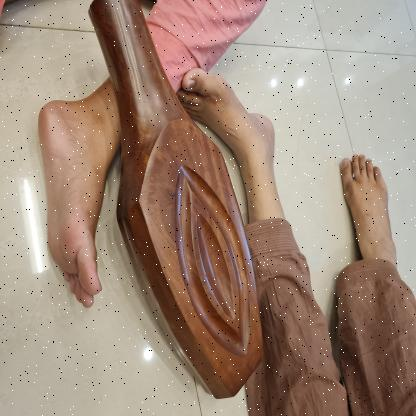leg: (32, 76, 120, 312), (176, 62, 283, 224), (336, 144, 398, 268)
